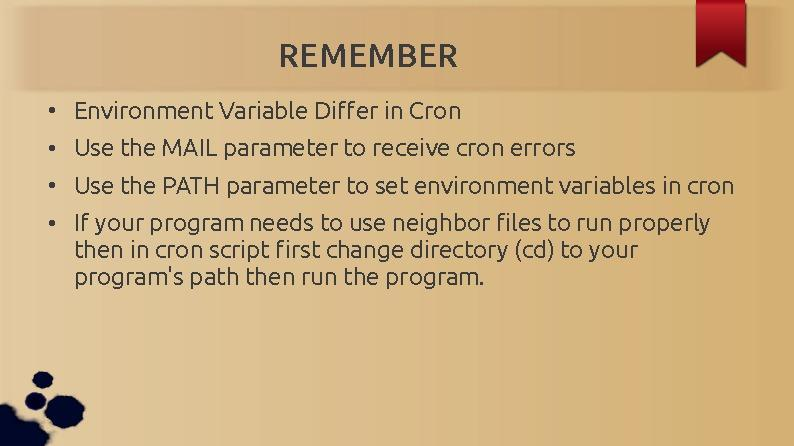paragraph: (26, 83, 757, 320)
title: (274, 33, 470, 82)
